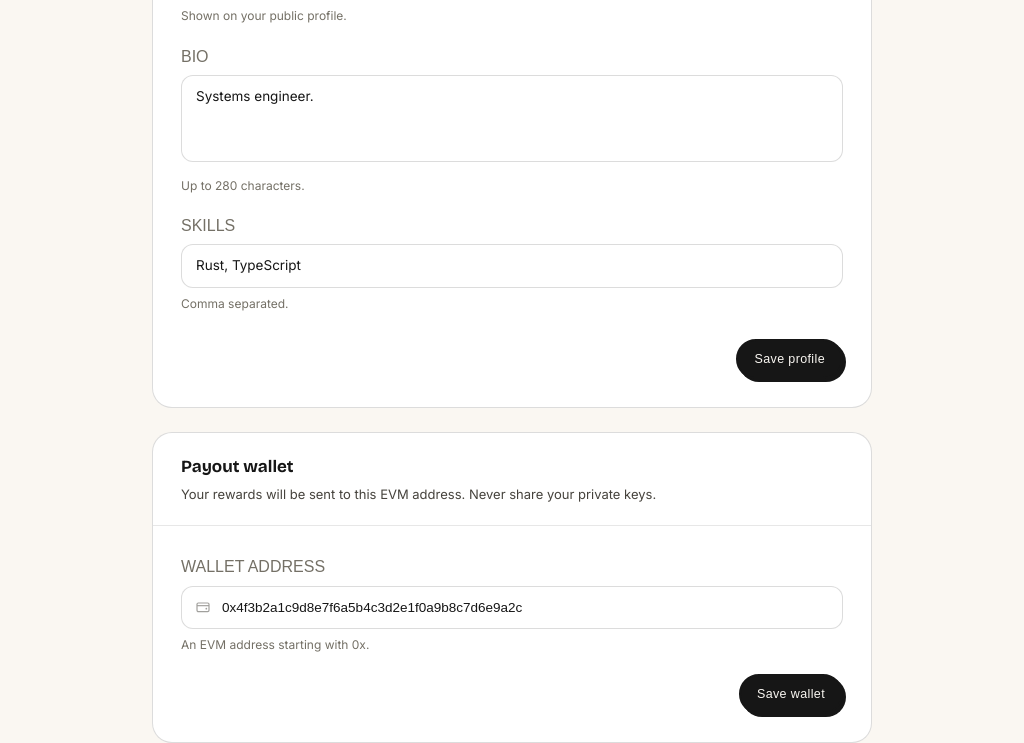
Wallet form validation › rejects an address that is not a 0x-prefixed 40 hex string
(page scrolled)
Replace the text in the field labelled "Wallet address" with "0xnope": (512, 608) [181,586,843,629]
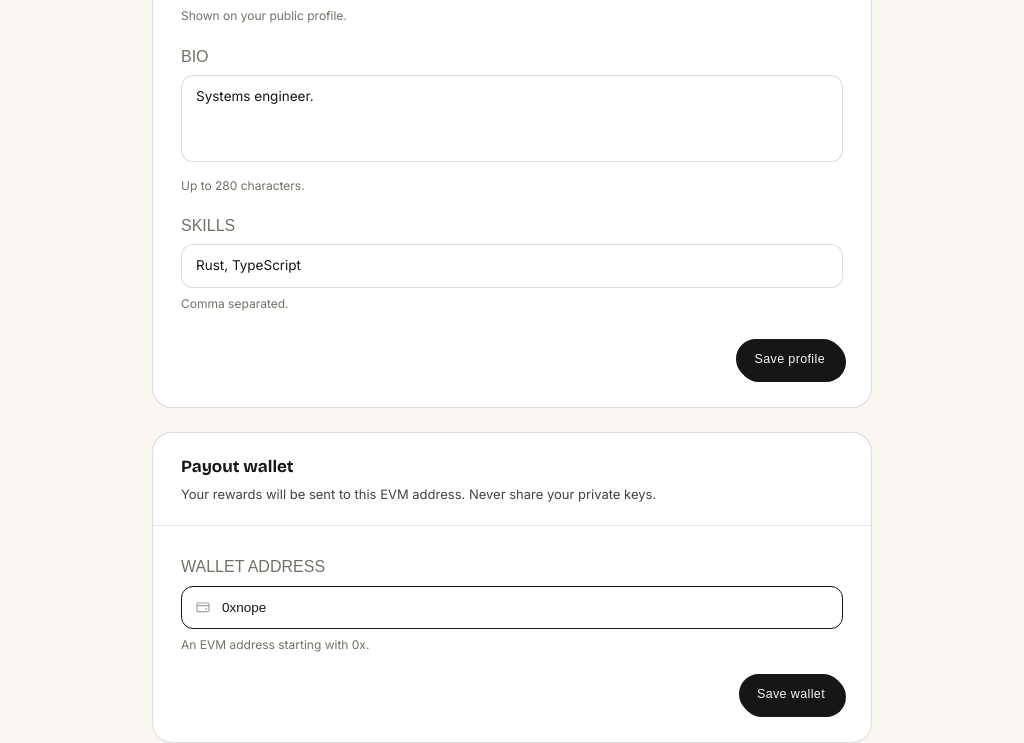
Click the button "Save wallet": (791, 694) [739,674,843,714]
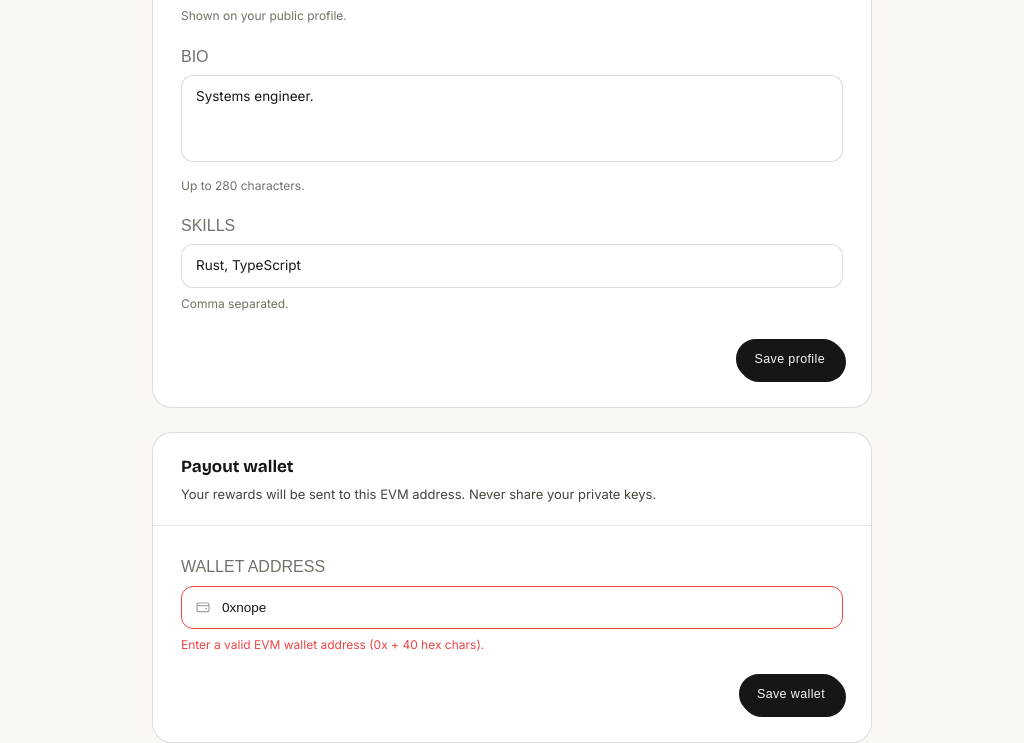
Check: the text "Enter a valid EVM wallet address (0x + 40 hex chars)." is shown, box [181,637,484,652]
